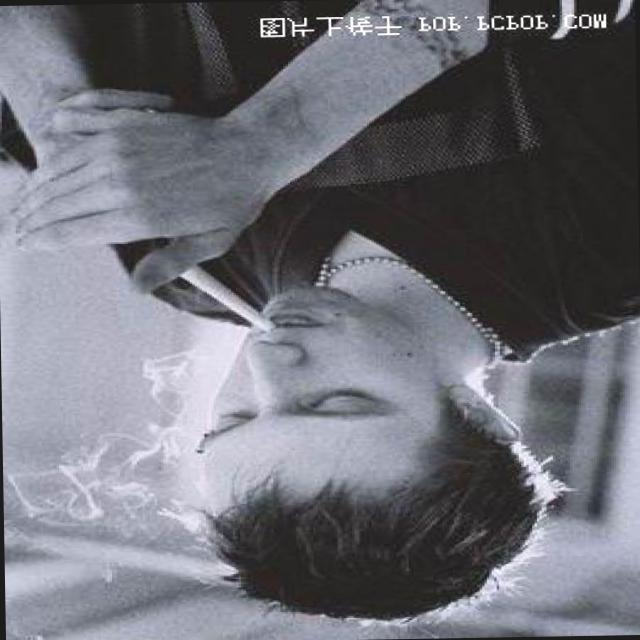smoke: (184, 269, 272, 330)
